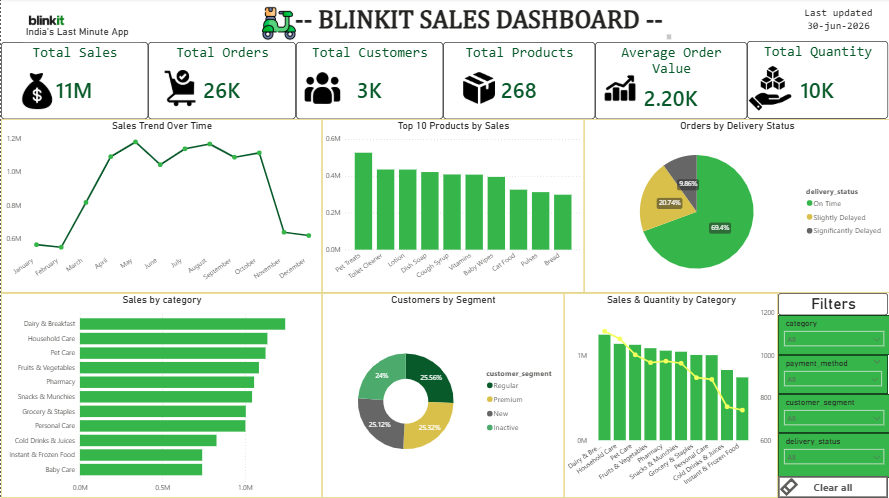

What the dashboard file says about the page in this screenshot:
{"tool":"powerbi","page":{"name":"Page 1","canvas":[1600,900],"ordinal":0},"visuals":[{"type":"textbox","title":"-- BLINKIT SALES DASHBOARD --","box":[509.4,14.4,702,64.8],"z":0},{"type":"cardVisual","title":"Total Sales","fields":{"Data":["blinkit_customers.Total Sales"]},"box":[0,79.2,264.6,138.6],"z":1000},{"type":"cardVisual","title":"Total Orders","fields":{"Data":["Sum(blinkit_customers.total_orders)"]},"box":[264.6,79.2,266.4,138.6],"z":2000},{"type":"cardVisual","title":"Total Customers","fields":{"Data":["blinkit_customers.Total Customers"]},"box":[531,79.2,264.6,138.6],"z":3000},{"type":"cardVisual","title":"Total Products","fields":{"Data":["blinkit_customers.Total Products"]},"box":[795.6,79.2,273.6,138.6],"z":4000},{"type":"cardVisual","title":"Average Order Value","fields":{"Data":["blinkit_customers.Average Order Value"]},"box":[1069.2,79.2,273.6,138.6],"z":5000},{"type":"lineChart","title":"Sales Trend Over Time","fields":{"Category":["blinkit_orders.order_date.Variation.Date Hierarchy.Month"],"Y":["blinkit_customers.Total Sales"]},"box":[0,217.8,577.8,313.2],"z":6000},{"type":"clusteredBarChart","title":"Sales by category","fields":{"Category":["blinkit_products.category"],"Y":["blinkit_customers.Total Sales"]},"box":[0,531,577.8,369],"z":7000},{"type":"columnChart","title":"Top 10 Products by Sales","fields":{"Category":["blinkit_products.product_name"],"Y":["blinkit_customers.Total Sales"]},"box":[577.8,217.8,471.6,313.2],"z":8000},{"type":"donutChart","title":"Customers by Segment","fields":{"Category":["blinkit_customers.customer_segment"],"Y":["blinkit_customers.Total Customers"]},"box":[577.8,531,435.6,369],"z":9000},{"type":"pieChart","title":"Orders by Delivery Status","fields":{"Category":["blinkit_orders.delivery_status"],"Y":["CountNonNull(blinkit_order_items.order_id)"]},"box":[1049.4,217.8,550.8,313.2],"z":10000},{"type":"cardVisual","title":"Total Quantity","fields":{"Data":["blinkit_customers.Total Quantity"]},"box":[1342.8,77.4,253.8,140.4],"z":11000},{"type":"slicer","fields":{"Values":["blinkit_products.category"]},"box":[1398.6,570.6,201.6,72],"z":12000},{"type":"slicer","fields":{"Values":["blinkit_customers.customer_segment"]},"box":[1398.6,712.8,201.6,70.2],"z":13000},{"type":"slicer","fields":{"Values":["blinkit_orders.payment_method"]},"box":[1398.6,642.6,198,70.2],"z":14000},{"type":"slicer","fields":{"Values":["blinkit_orders.delivery_status"]},"box":[1398.6,783,201.6,81],"z":15000},{"type":"actionButton","box":[1398.6,860.4,198,39.6],"z":16000},{"type":"image","box":[30.6,1.8,102.6,77.4],"z":17000},{"type":"image","box":[469.8,7.2,61.2,77.4],"z":18000},{"type":"image","box":[21.6,135,86.4,64.8],"z":19000},{"type":"image","box":[289.8,129.6,64.8,64.8],"z":20000},{"type":"image","box":[813.6,124.2,93.6,75.6],"z":21000},{"type":"image","box":[534.6,129.6,88.2,64.8],"z":22000},{"type":"image","box":[1342.8,118.8,82.8,86.4],"z":23000},{"type":"image","box":[1081.8,129.6,64.8,64.8],"z":24000},{"type":"lineStackedColumnComboChart","title":" Sales & Quantity by Category ","fields":{"Y":["blinkit_customers.Total Sales"],"Category":["blinkit_products.category"],"Y2":["blinkit_customers.Total Quantity"]},"box":[1013.4,531,385.2,369],"z":25000},{"type":"textbox","title":"Filters","box":[1398.6,531,198,39.6],"z":26000},{"type":"textbox","title":"Last updated 30-jun-2026","box":[1418.4,16.2,178.2,50.4],"z":27000},{"type":"textbox","title":"India''s Last Minute App","box":[39.6,50.4,210.6,28.8],"z":27001}]}

Visuals, with their boxes in screenshot pixels (x1, y1, x2, y2), scaled from the page's 1600x900 canvas onto the 889x498 screenshot:
"-- BLINKIT SALES DASHBOARD --" textbox: l=283, t=8, r=673, b=44
"Total Sales" cardVisual: l=0, t=44, r=147, b=121
"Total Orders" cardVisual: l=147, t=44, r=295, b=121
"Total Customers" cardVisual: l=295, t=44, r=442, b=121
"Total Products" cardVisual: l=442, t=44, r=594, b=121
"Average Order Value" cardVisual: l=594, t=44, r=746, b=121
"Sales Trend Over Time" lineChart: l=0, t=121, r=321, b=294
"Sales by category" clusteredBarChart: l=0, t=294, r=321, b=497
"Top 10 Products by Sales" columnChart: l=321, t=121, r=583, b=294
"Customers by Segment" donutChart: l=321, t=294, r=563, b=497
"Orders by Delivery Status" pieChart: l=583, t=121, r=888, b=294
"Total Quantity" cardVisual: l=746, t=43, r=887, b=121
slicer - blinkit_products.category: l=777, t=316, r=888, b=356
slicer - blinkit_customers.customer_segment: l=777, t=394, r=888, b=433
slicer - blinkit_orders.payment_method: l=777, t=356, r=887, b=394
slicer - blinkit_orders.delivery_status: l=777, t=433, r=888, b=478
actionButton: l=777, t=476, r=887, b=497
image: l=17, t=1, r=74, b=44
image: l=261, t=4, r=295, b=47
image: l=12, t=75, r=60, b=111
image: l=161, t=72, r=197, b=108
image: l=452, t=69, r=504, b=111
image: l=297, t=72, r=346, b=108
image: l=746, t=66, r=792, b=114
image: l=601, t=72, r=637, b=108
" Sales & Quantity by Category " lineStackedColumnComboChart: l=563, t=294, r=777, b=497
"Filters" textbox: l=777, t=294, r=887, b=316
"Last updated 30-jun-2026" textbox: l=788, t=9, r=887, b=37
"India''s Last Minute App" textbox: l=22, t=28, r=139, b=44
